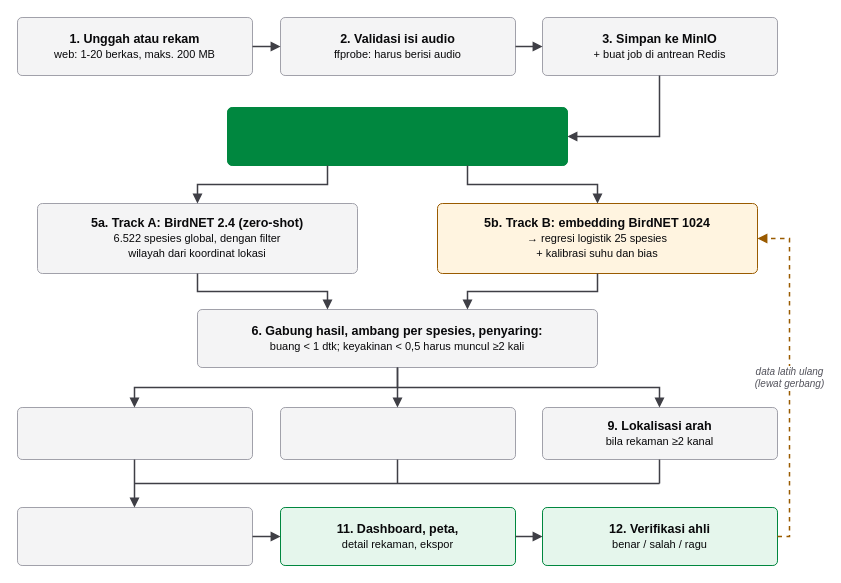
This 841x583 diagram has some shape labels left out. The shapes that lost their labels are listed below. From the top down, each one's centre as x and y in pixels, then its label:
(x=397, y=136): 4. Worker: unduh dan dekode mono 48 kHz, jendela 3 detik
(x=134, y=433): 7. Indeks soundscape ACI, NDSI, ADI, BI (scikit-maad)
(x=398, y=433): 8. Spektrogram (disimpan di MinIO)
(x=134, y=536): 10. PostgreSQL + PostGIS deteksi, indeks, status job
